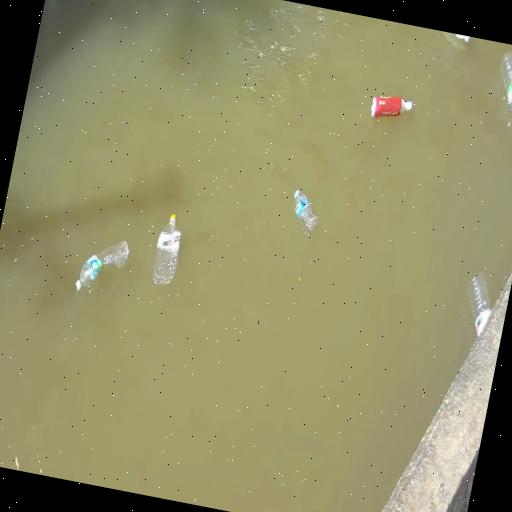plastic: (76, 242, 129, 291), (152, 214, 181, 287), (468, 273, 492, 337), (294, 190, 318, 231), (371, 96, 412, 118), (500, 53, 511, 109), (450, 33, 472, 44)
